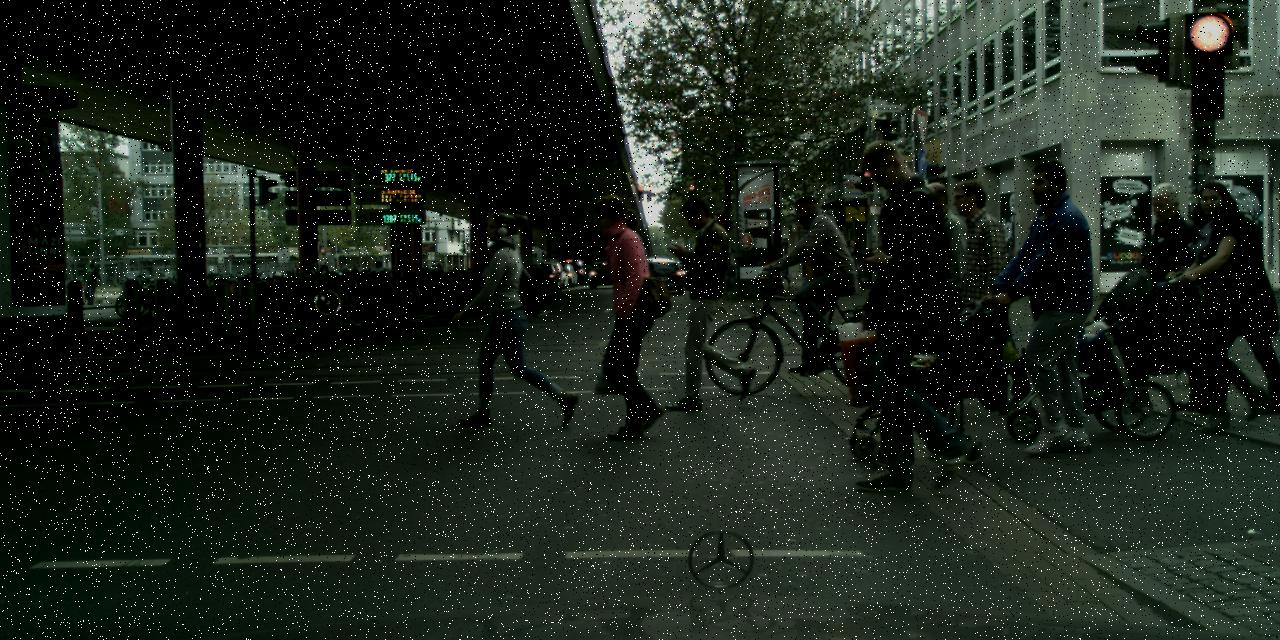ped: (833, 141, 976, 491), (995, 160, 1114, 452), (576, 194, 676, 438), (1176, 182, 1274, 422), (1119, 180, 1212, 407), (902, 182, 993, 405), (932, 179, 1022, 399), (1190, 194, 1278, 412), (470, 212, 556, 421), (665, 197, 750, 405), (775, 194, 844, 364), (841, 238, 863, 296), (81, 257, 100, 304)
